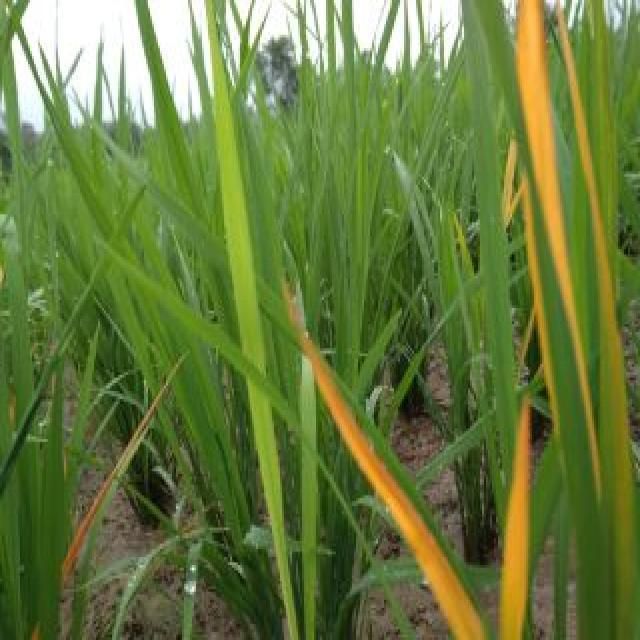Rice Tungro: (510, 12, 618, 527)
